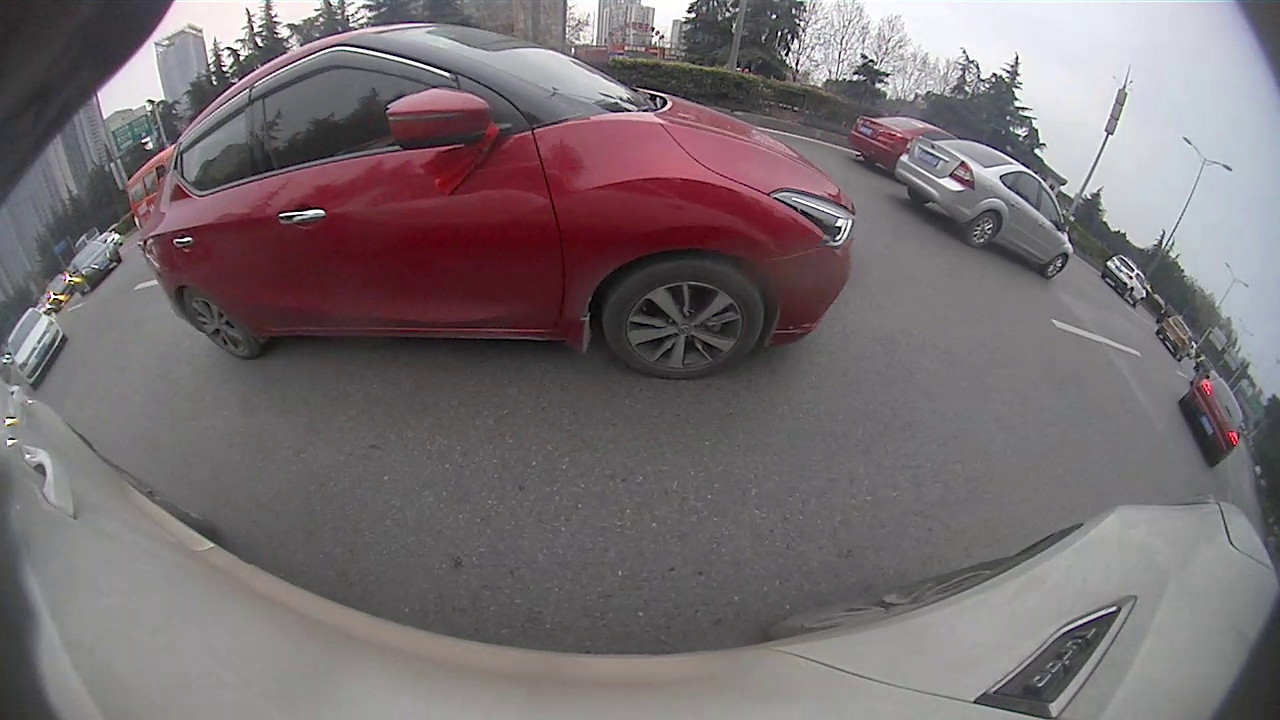car: (136, 23, 859, 381), (891, 135, 1074, 280), (847, 109, 953, 174), (1178, 375, 1246, 466), (6, 304, 66, 391), (67, 241, 123, 296), (1102, 254, 1148, 308), (1156, 313, 1195, 363)
front: (600, 256, 765, 381), (1043, 254, 1067, 282)
rear: (186, 291, 260, 363), (963, 209, 1002, 252)
